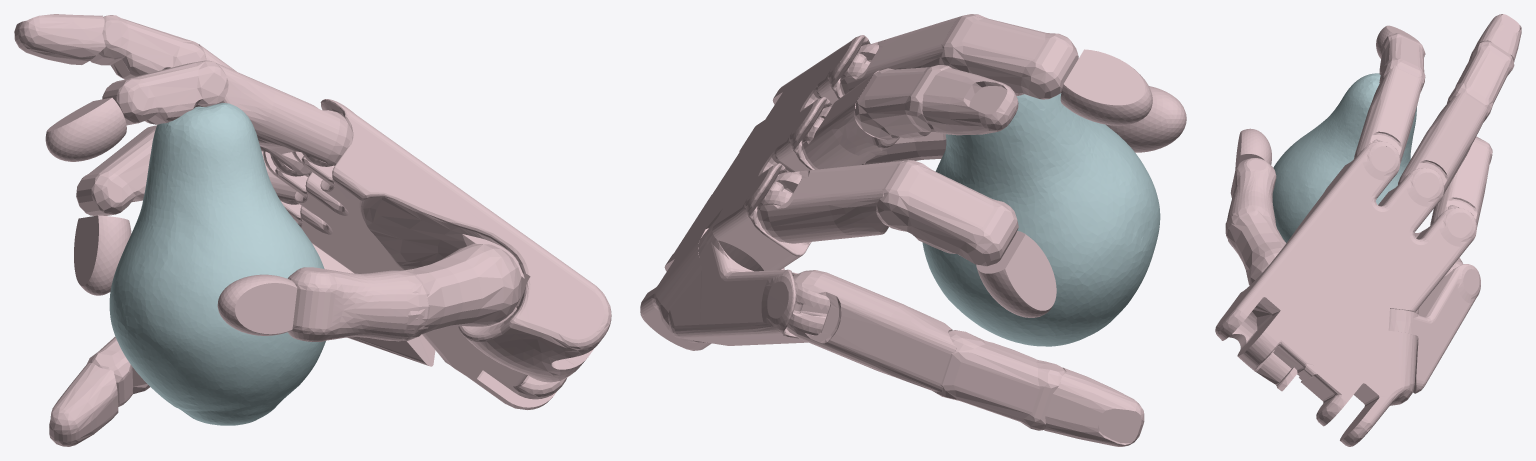
The model's file is grasp_2.glb.
3 views of the same model, side by side, from view 1: azimuth 30°, elevation 25°; view 2: azimuth 150°, elevation 25°; view 3: azimuth 270°, elevation 25° (orthographic). The views are drawn at different scales.
Parts seen in each view (by area): view 1: world; view 2: world; view 3: world.
Boxes of the visible parts, bbox=[...] form: world: bbox=[14, 14, 611, 446]; world: bbox=[640, 14, 1186, 446]; world: bbox=[1215, 14, 1521, 446].
Size of the model in its own units: 0.1725 by 0.1401 by 0.1325.
